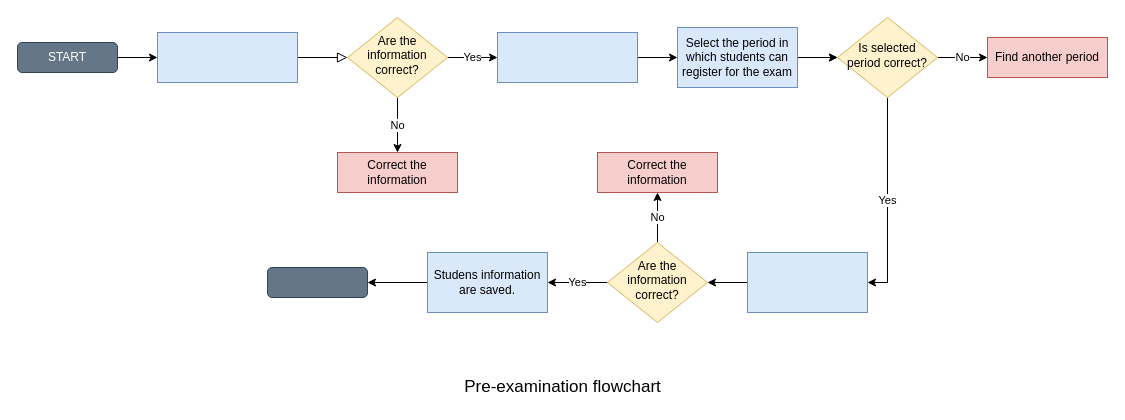
Image size: 1125x420. Some labels were removed from this diagram. Each missing label, with the centre of its shape:
Define examination committees: (x=567, y=57)
Import information about teachers/students: (x=227, y=57)
STOP: (x=317, y=282)
Students register and enter their theses information.: (x=807, y=282)
